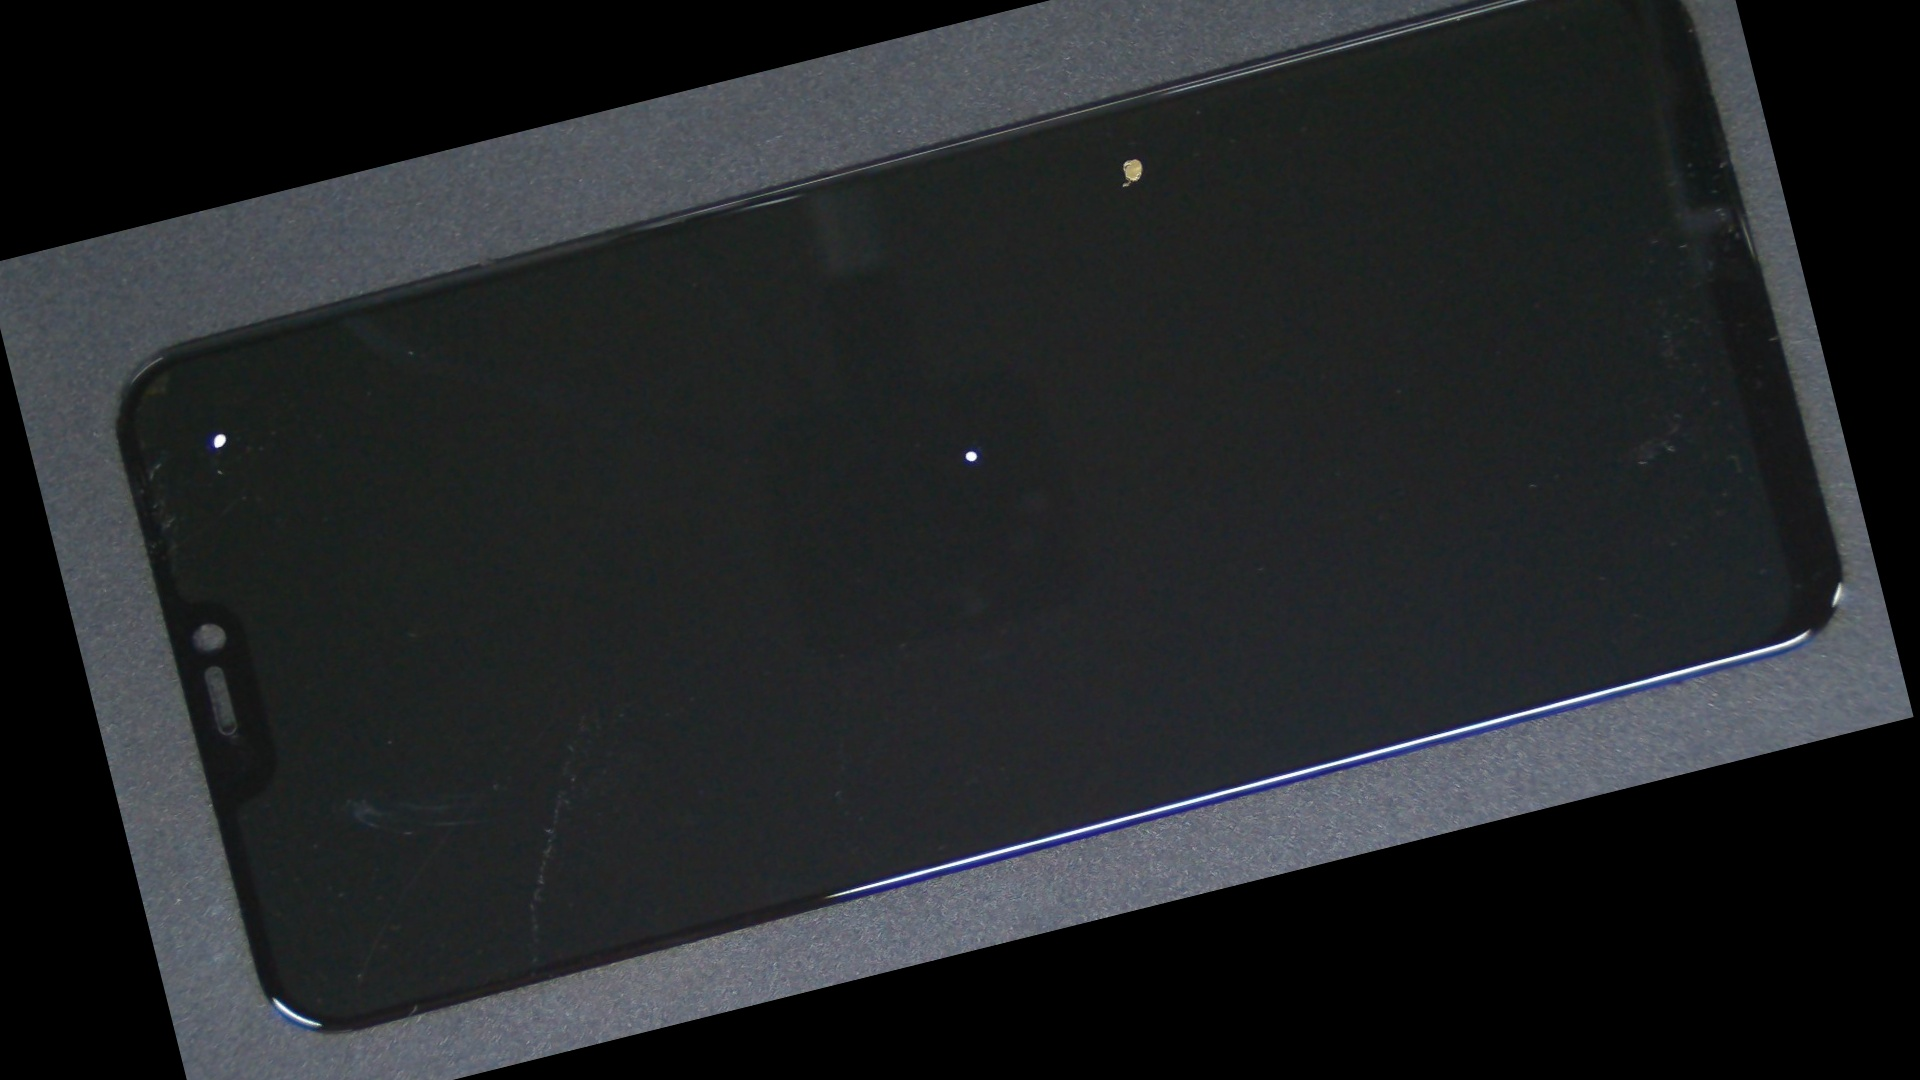oil: (479, 136, 1465, 762), (555, 0, 1696, 378), (102, 303, 336, 562)
